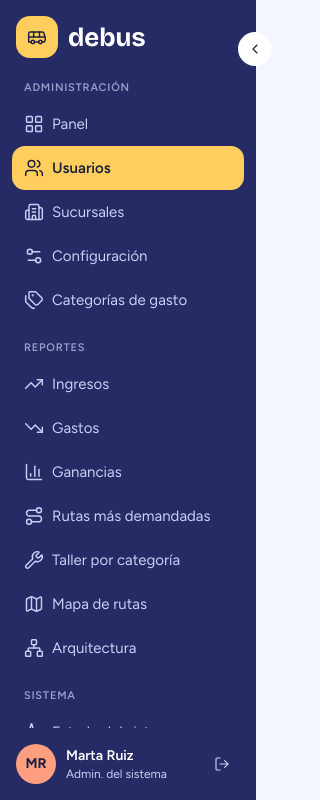
Test: AppSidebar › collapses and expands with the floating button
The image size is (320, 800).
Click the button named "Colapsar menú" at (255, 49), box left=238, top=32, right=272, bottom=66
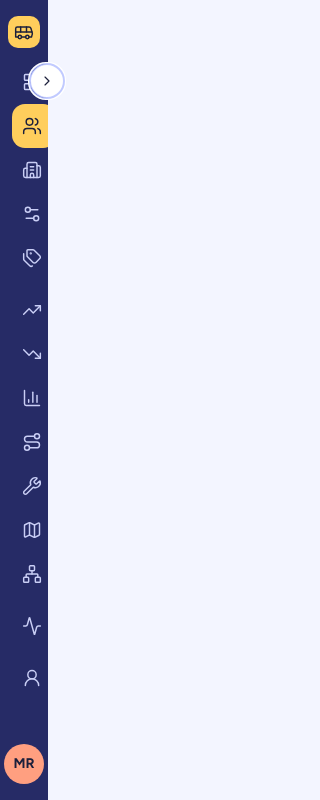
Check: the button named "Expandir menú" is collapsed, box left=30, top=64, right=64, bottom=98
